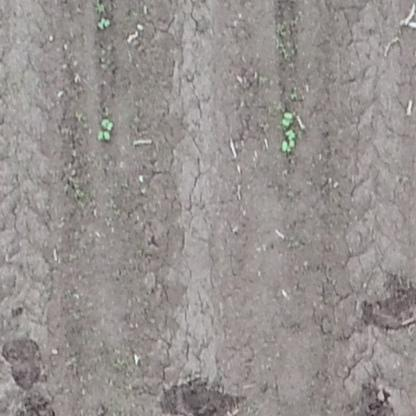vc: (281, 129, 294, 152), (278, 109, 293, 125), (98, 116, 115, 129), (96, 16, 112, 28), (98, 130, 111, 142)
